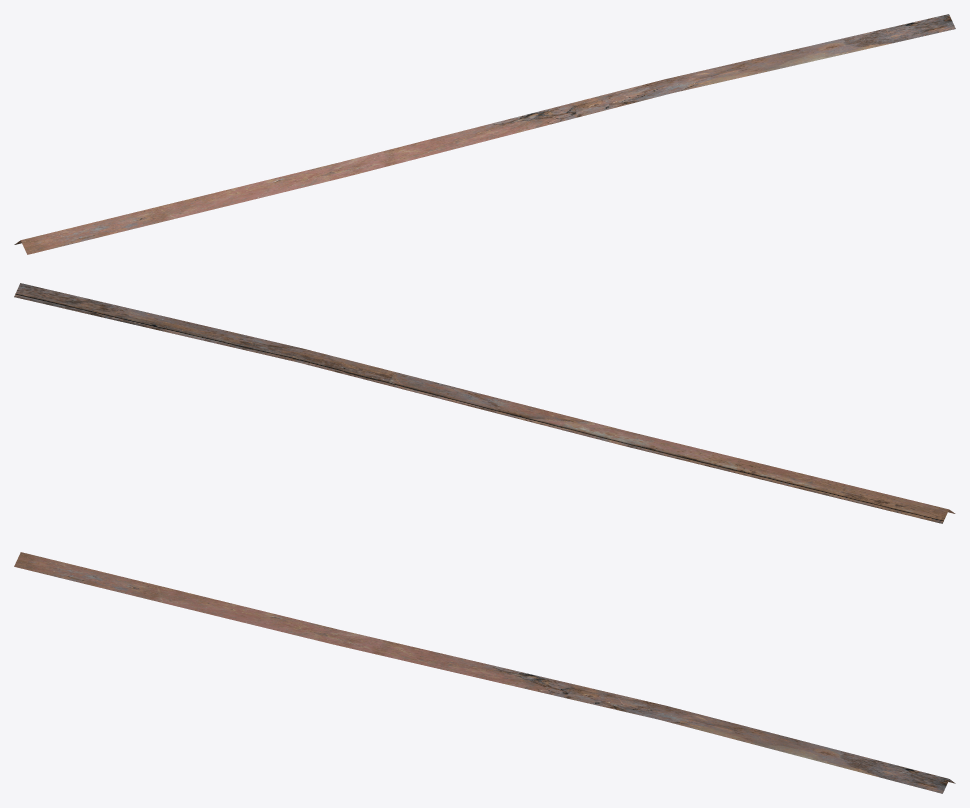
Rendered from Peak_03.fbx.
3 views of the same model, one above another, from view 1: azimuth 30°, elevation 25°; view 2: azimuth 150°, elevation 25°; view 3: azimuth 330°, elevation 25° (orthographic).
Parts seen in each view (by area): view 1: Peak_03; view 2: Peak_03; view 3: Peak_03.
Boxes of the visible parts, x1,y1,x2,y2 form: Peak_03: [14, 14, 955, 254]; Peak_03: [14, 283, 955, 523]; Peak_03: [14, 552, 955, 793].
Size of the model in its own units: 1262 by 32.11 by 17.77.
1 material, 1 textured.
